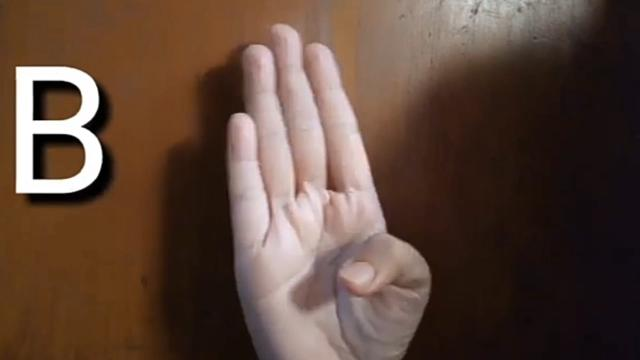B: (227, 22, 431, 360)
